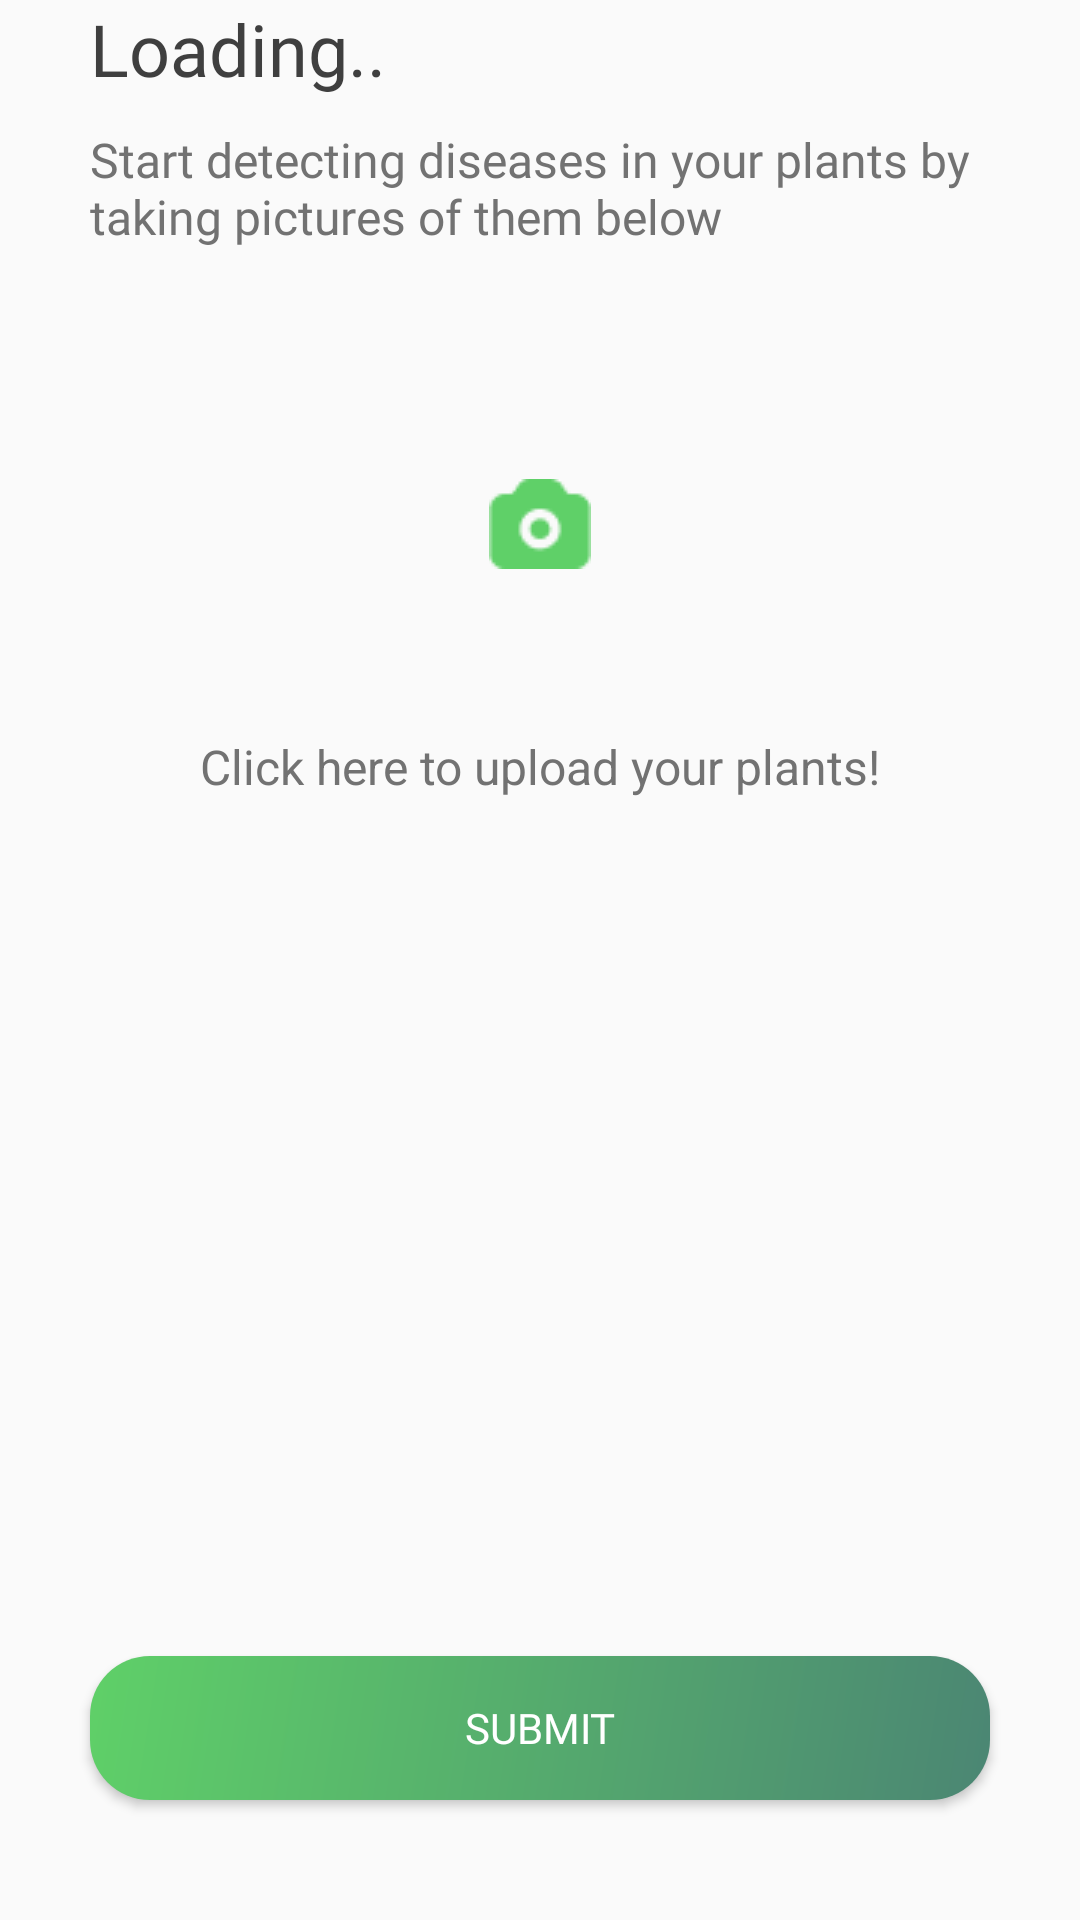

Screen size 1080w x 1920h. Icon name, then its center in pixels as (x,y):
camera: (540,524)
